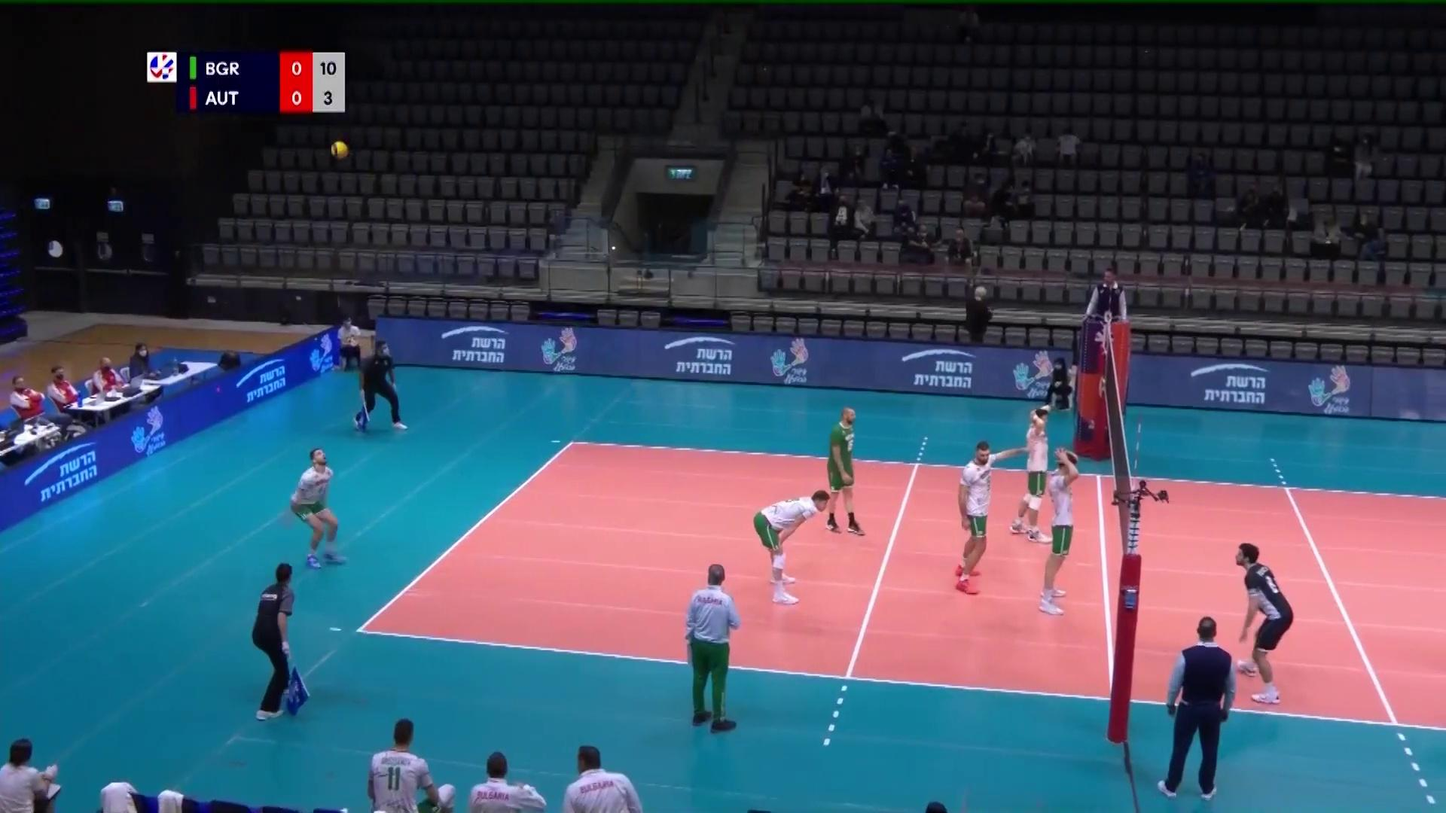ball: (329, 139, 350, 159)
